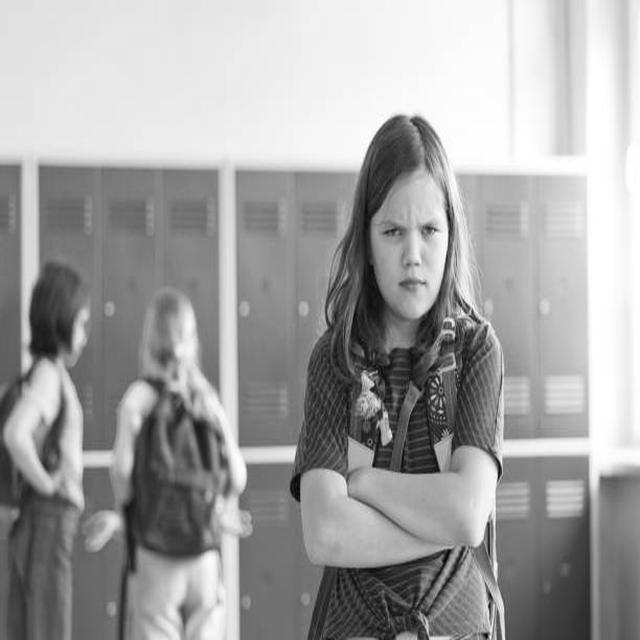Angry: (369, 176, 448, 319)
